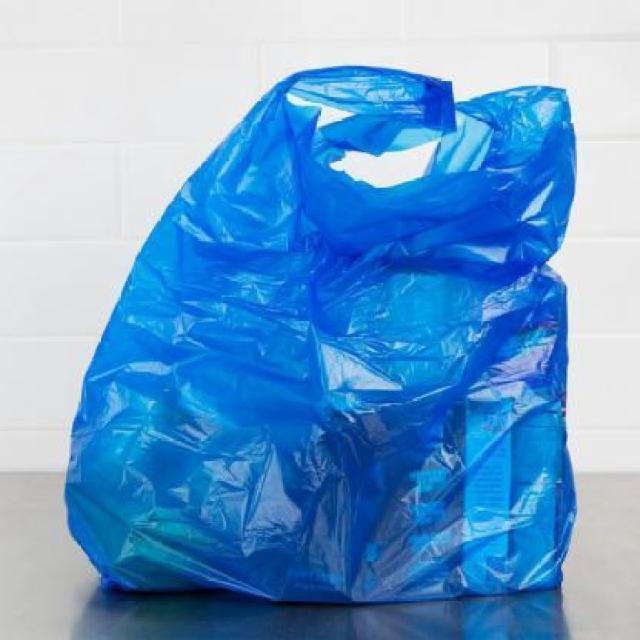plastic bag: (65, 63, 582, 614)
